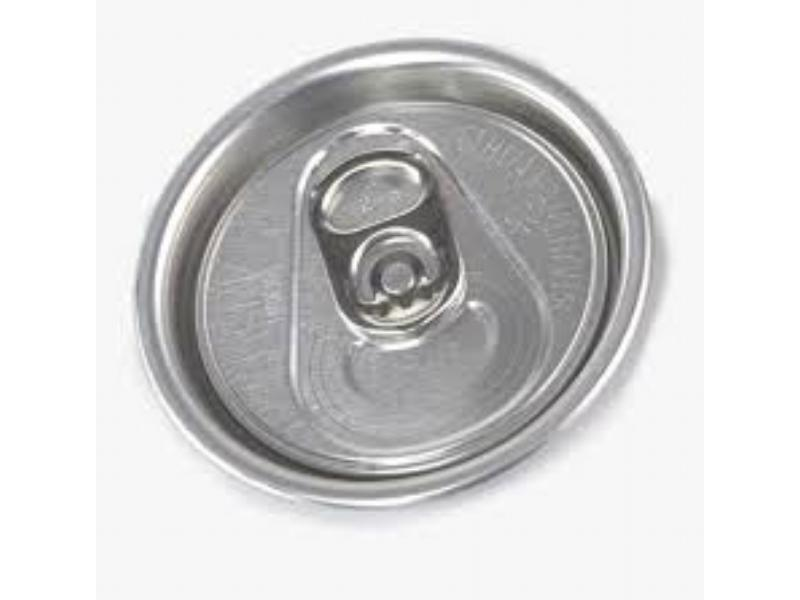can: (126, 31, 675, 521)
